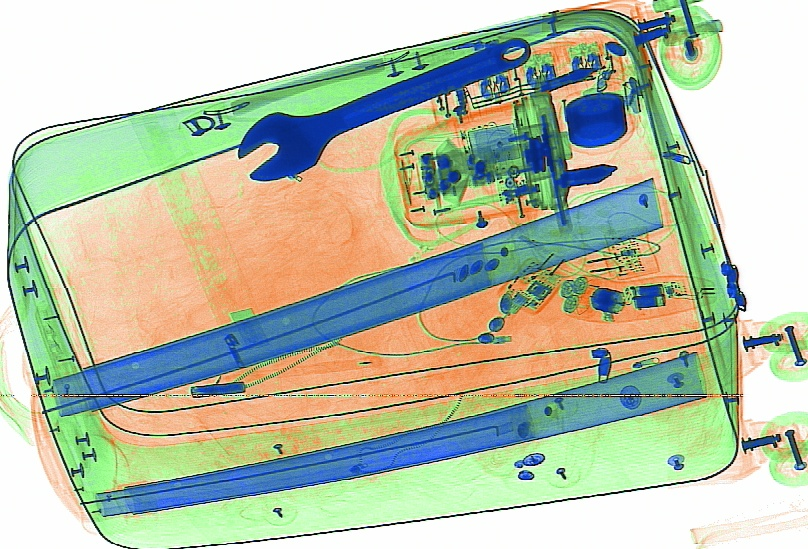banshou: (236, 33, 531, 182)
